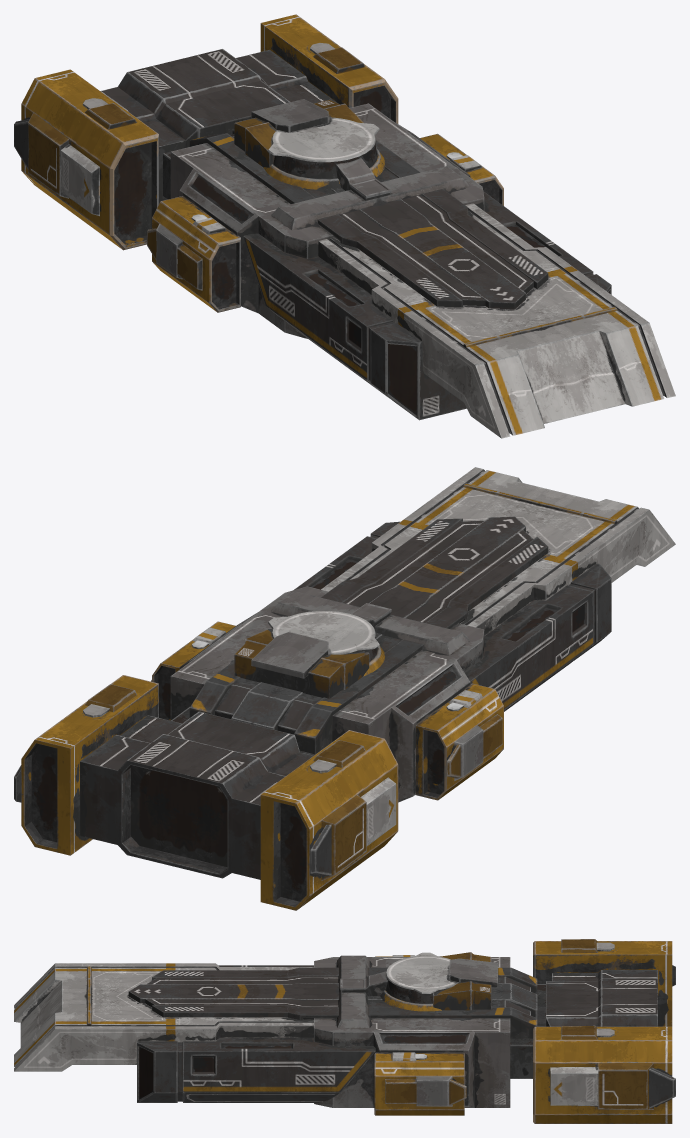
Rendered from Imperial.glb.
3 views of the same model, one above another, from view 1: azimuth 30°, elevation 25°; view 2: azimuth 150°, elevation 25°; view 3: azimuth 270°, elevation 25° (orthographic). The views are drawn at different scales.
Visible parts, largest first — view 1: Imperial; view 2: Imperial; view 3: Imperial.
Part boxes in pixels (<box>): Imperial: <box>14,14,675,438</box>; Imperial: <box>14,467,675,910</box>; Imperial: <box>14,939,675,1123</box>.
Size of the model in its own units: 7.73 by 3.3 by 18.55.
1 material, 1 textured.
